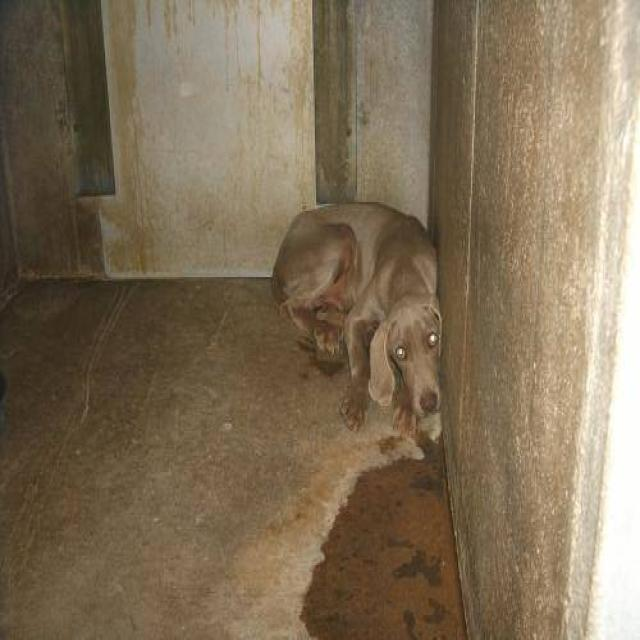dog: (270, 198, 442, 447)
